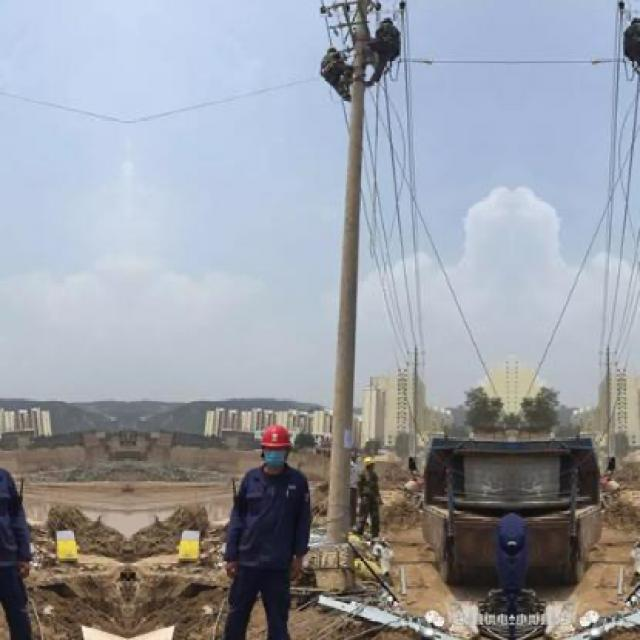helmet: (258, 420, 294, 469), (362, 451, 382, 477)
